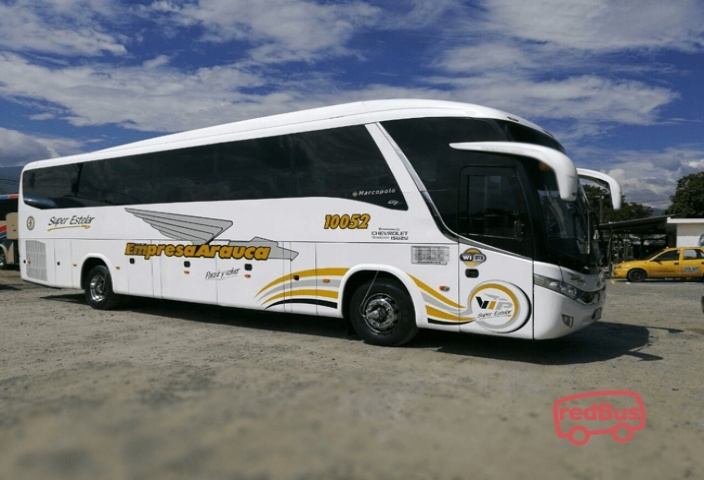bus: (1, 122, 624, 358)
taxi: (612, 227, 704, 291)
